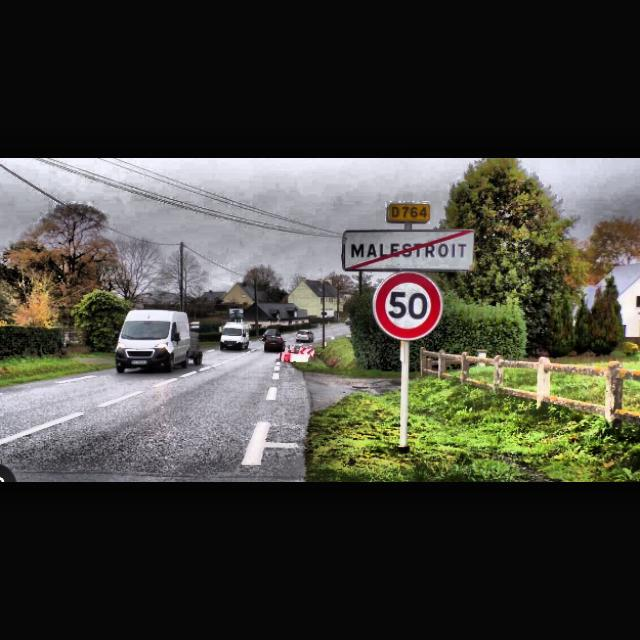speed_50: (372, 273, 444, 341)
